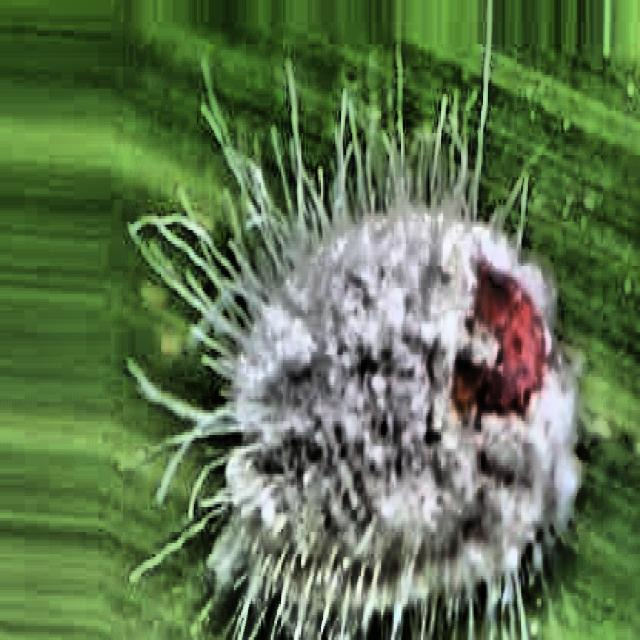Mealy-bug: (150, 56, 621, 640)
